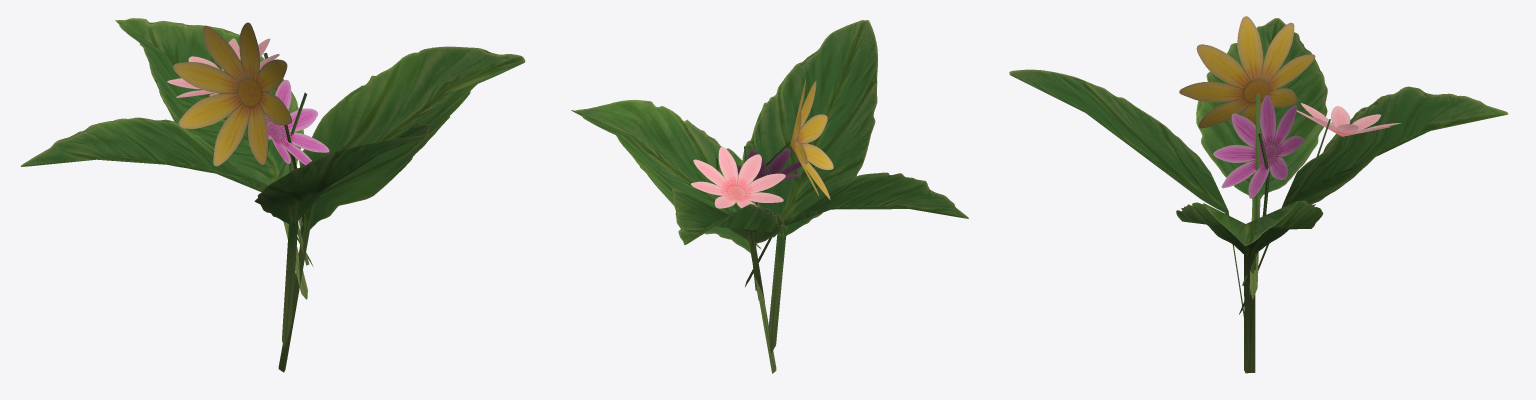
Rendered from SM_Buddha_Plant_01.fbx.
The picture shows the model from 3 angles, left to right: view 1: azimuth 30°, elevation 25°; view 2: azimuth 150°, elevation 25°; view 3: azimuth 270°, elevation 25°; orthographic projection. The views are drawn at different scales.
Visible parts, largest first — view 1: SM_Buddha_Plant_01; view 2: SM_Buddha_Plant_01; view 3: SM_Buddha_Plant_01.
Part boxes in pixels (bbox=[...]): SM_Buddha_Plant_01: bbox=[21, 18, 525, 372]; SM_Buddha_Plant_01: bbox=[571, 20, 968, 373]; SM_Buddha_Plant_01: bbox=[1009, 16, 1508, 373].
Bounding box in the file's own units: 22.74 × 21.32 × 16.17.
1 material, 1 textured.
